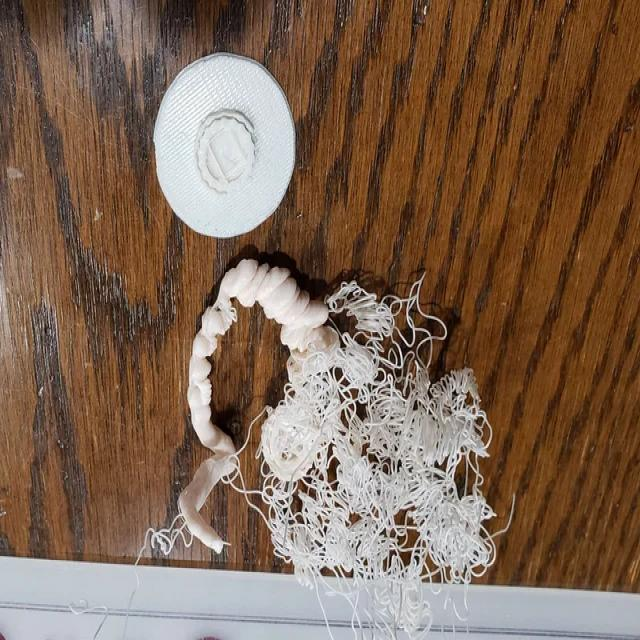Spaghetti: (356, 385, 501, 581), (332, 284, 417, 398), (274, 484, 349, 572), (268, 397, 328, 488), (348, 577, 428, 637)
